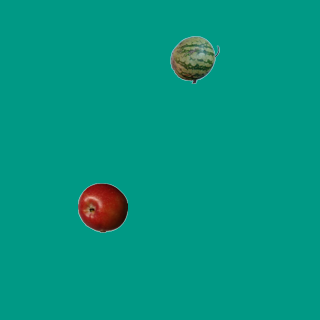Apple Braeburn: (77, 182, 127, 232)
Watermelon: (169, 34, 219, 84)
